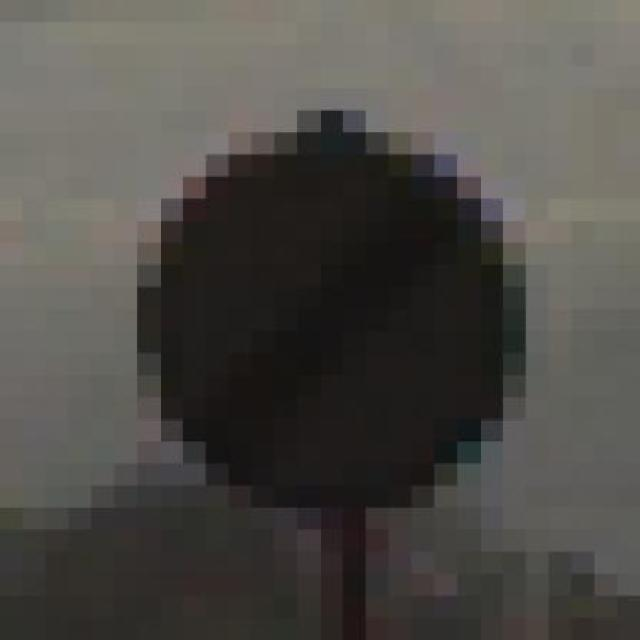End of all speed and passing limits: (137, 44, 549, 530)
